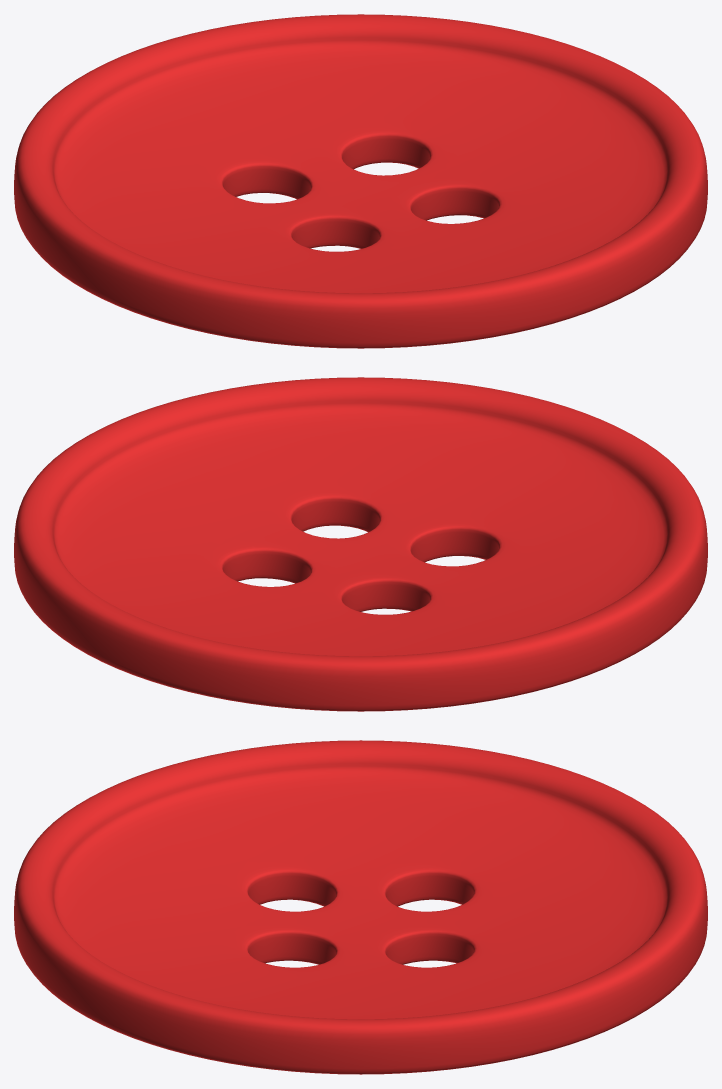
The picture shows the model from 3 angles, top to bottom: view 1: azimuth 30°, elevation 25°; view 2: azimuth 150°, elevation 25°; view 3: azimuth 270°, elevation 25°; orthographic projection.
Parts seen in each view (by area): view 1: button; view 2: button; view 3: button.
Part boxes in pixels (x1,y1,x2,y2): button: (14,14,707,348); button: (14,377,707,711); button: (14,740,707,1074).
Bounding box in the file's own units: 1.97 × 0.2191 × 1.97.
